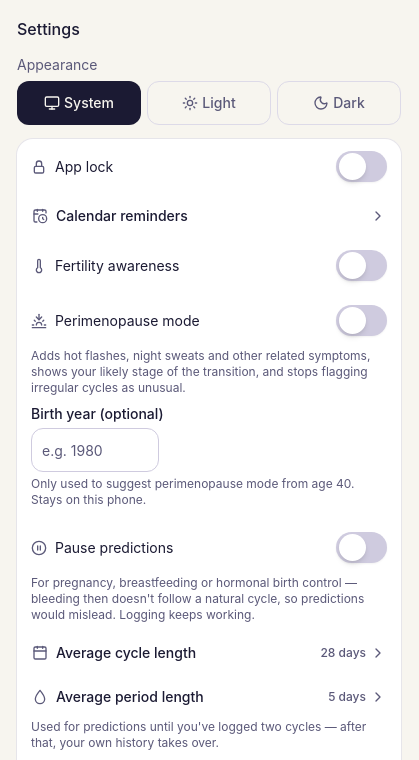
Test: SettingsScreen › a failed theme write shows an error and leaves the theme unchanged
What coordinates should you click on to do the following:
click the radio button labelled "Dark"
I would click on:
 (339, 103)
Its box is 277,81 -> 401,125.
(page scrolled)
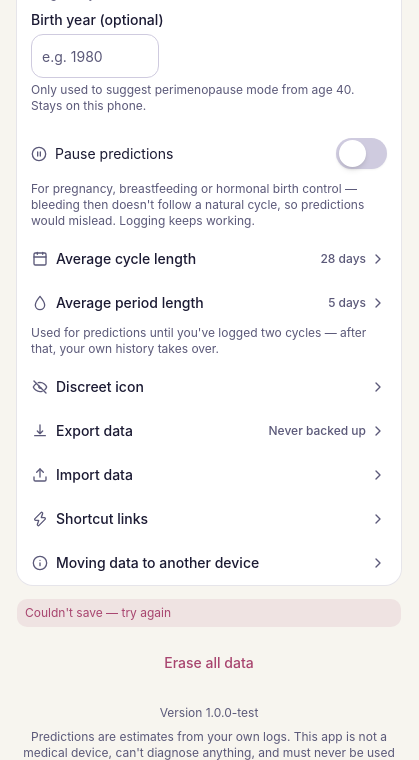
Expected: the text "Couldn't save — try again" is shown, 25,605 -> 171,621
